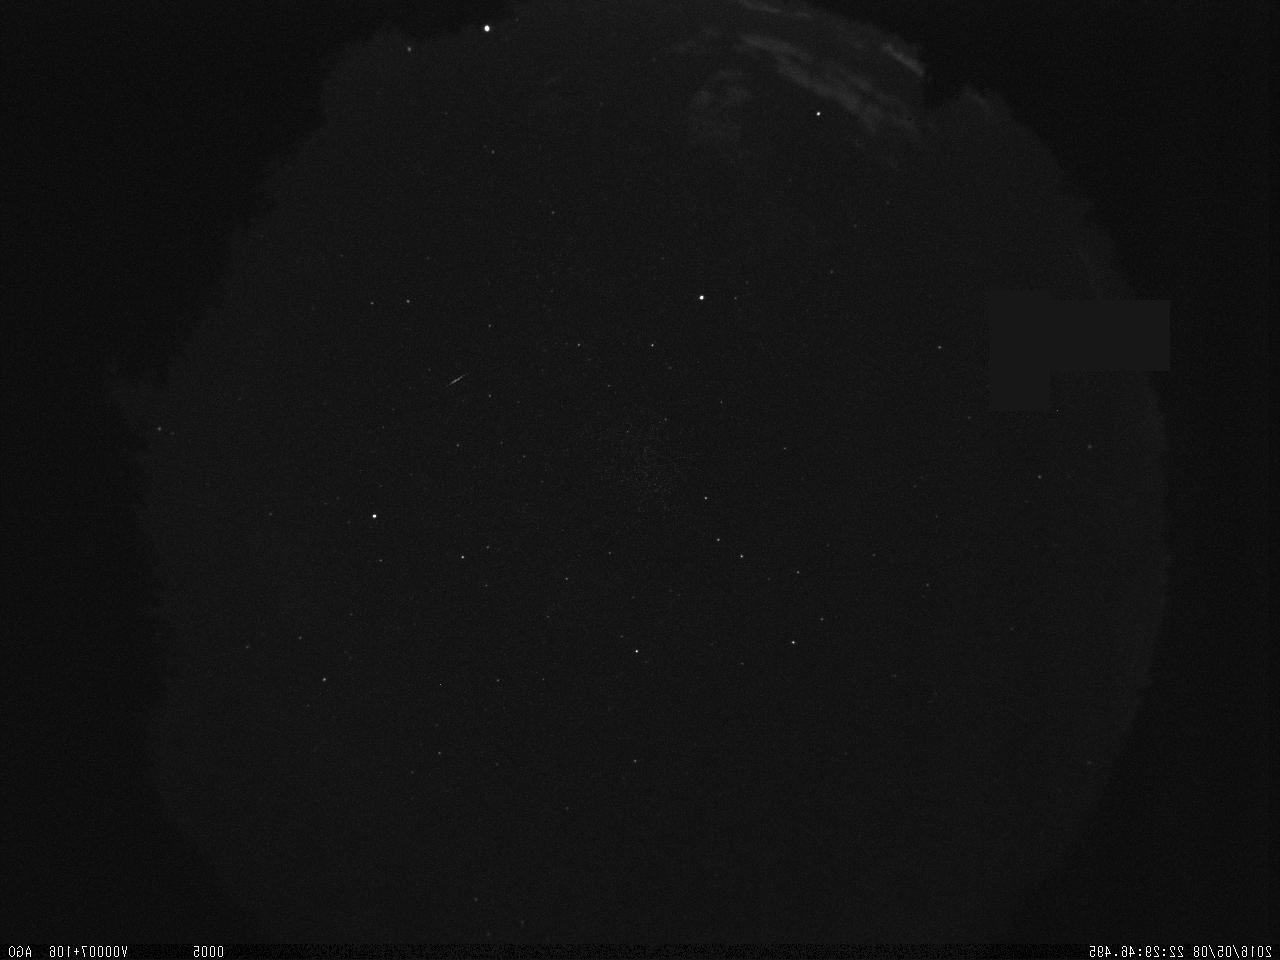meteor: (434, 370, 473, 394)
